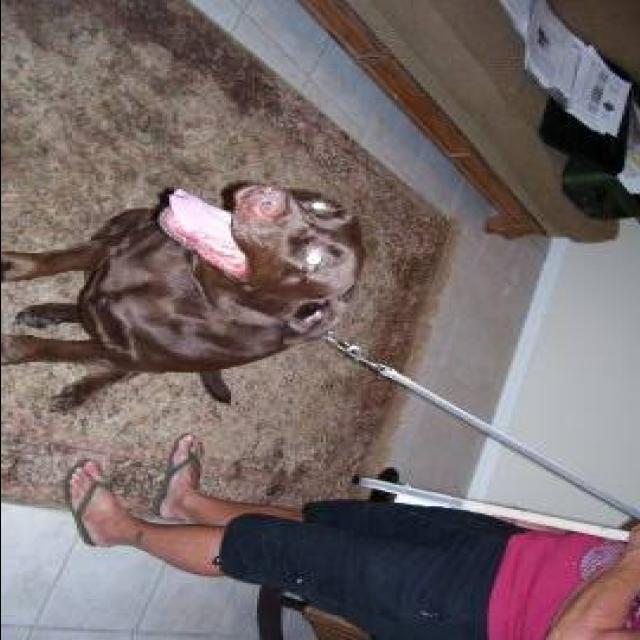dog: (0, 175, 382, 419)
